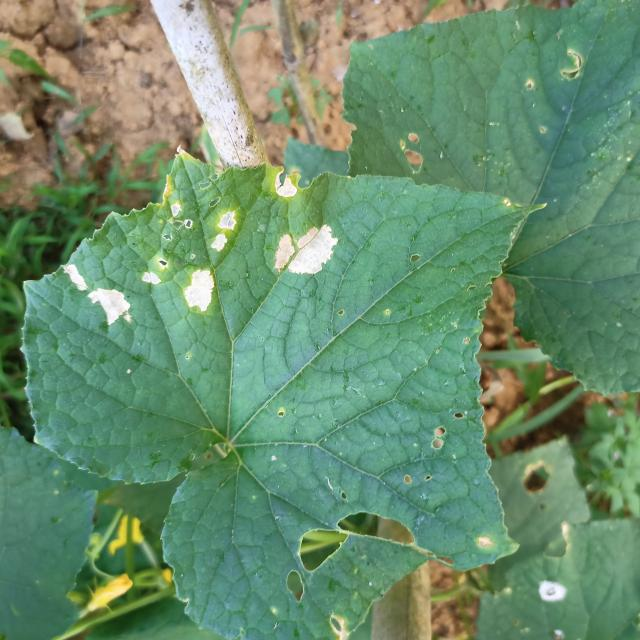disease_cucumber: (137, 202, 240, 318), (58, 262, 134, 331), (260, 220, 340, 285), (262, 164, 306, 204)
